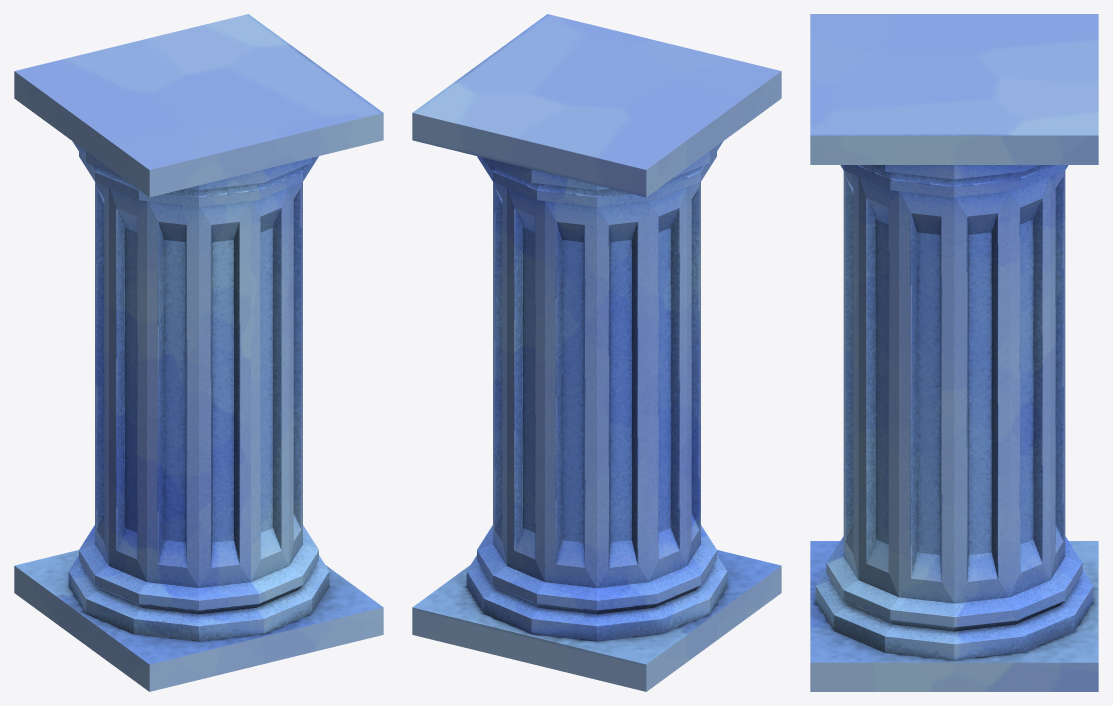
Rendered from ice_column.fbx.
3 renders of one model, left to right at view 1: azimuth 30°, elevation 25°; view 2: azimuth 150°, elevation 25°; view 3: azimuth 270°, elevation 25°, orthographic. The views are drawn at different scales.
Visible parts, largest first — view 1: ice_column; view 2: ice_column; view 3: ice_column.
Boxes of the visible parts, x1,y1,x2,y2 form: ice_column: [14, 14, 383, 691]; ice_column: [412, 14, 781, 691]; ice_column: [810, 14, 1098, 691].
Bounding box in the file's own units: 3.35 × 7.13 × 3.35.
1 material, 1 textured.
